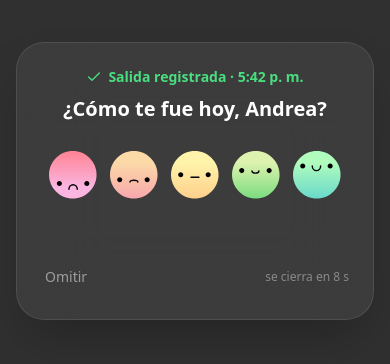
Test: la carita › con Bien o Muy bien no hay motivos, pero sí se puede agregar una observación
Click the radio button named "Muy bien".
click(317, 175)  # box top-left (289, 147), bottom-right (345, 203)
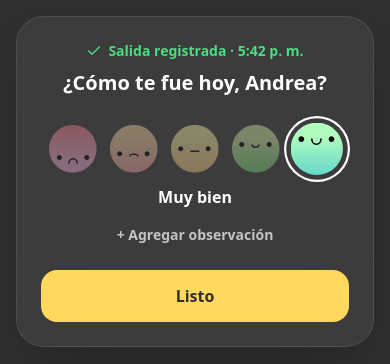
expect the button "+ Agregar observación" is shown: met, box top-left (117, 224), bottom-right (273, 244)
